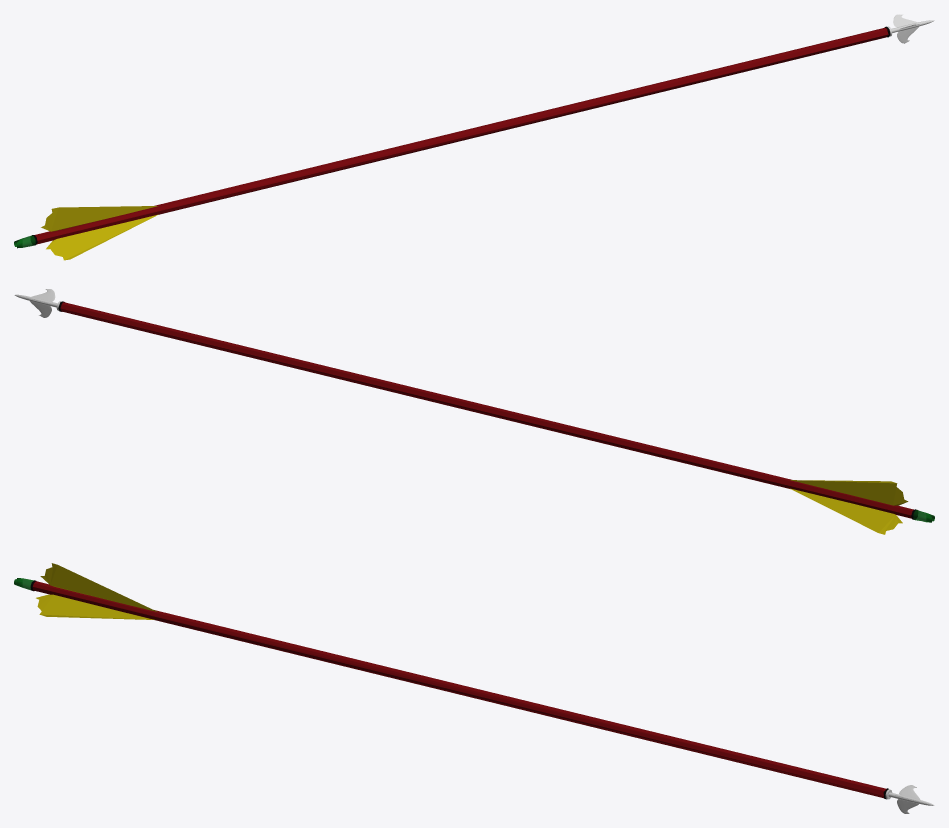
Rendered from arrow.fbx.
The picture shows the model from 3 angles, top to bottom: view 1: azimuth 30°, elevation 25°; view 2: azimuth 150°, elevation 25°; view 3: azimuth 330°, elevation 25°; orthographic projection.
Visible parts, largest first — view 1: Cylinder, Cone_002, Cone, Cylinder_003; view 2: Cylinder, Cone, Cone_001, Cylinder_003; view 3: Cylinder, Cone_002, Cone, Cylinder_003.
Part boxes in pixels (bbox=[...]): Cylinder: bbox=[35, 27, 888, 244]; Cone_002: bbox=[46, 214, 158, 260]; Cone: bbox=[41, 206, 157, 231]; Cylinder_003: bbox=[887, 14, 934, 43]; Cylinder: bbox=[60, 302, 913, 518]; Cone: bbox=[790, 480, 908, 505]; Cone_001: bbox=[789, 488, 902, 534]; Cylinder_003: bbox=[14, 289, 61, 317]; Cylinder: bbox=[32, 581, 886, 798]; Cone_002: bbox=[36, 594, 154, 619]; Cone: bbox=[40, 563, 157, 611]; Cylinder_003: bbox=[885, 785, 934, 813].
Size of what is drawn, in the model's own units: 2.05 by 0.0929 by 0.096.
